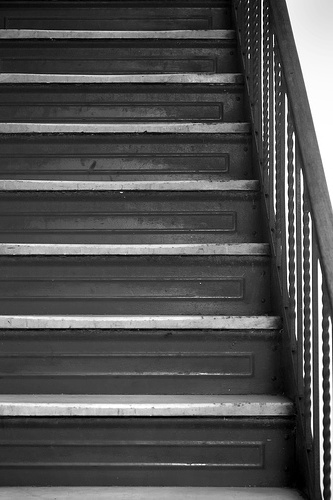stairs_up: (1, 26, 304, 484)
